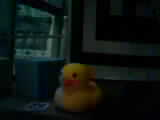duck: (53, 54, 104, 110)
